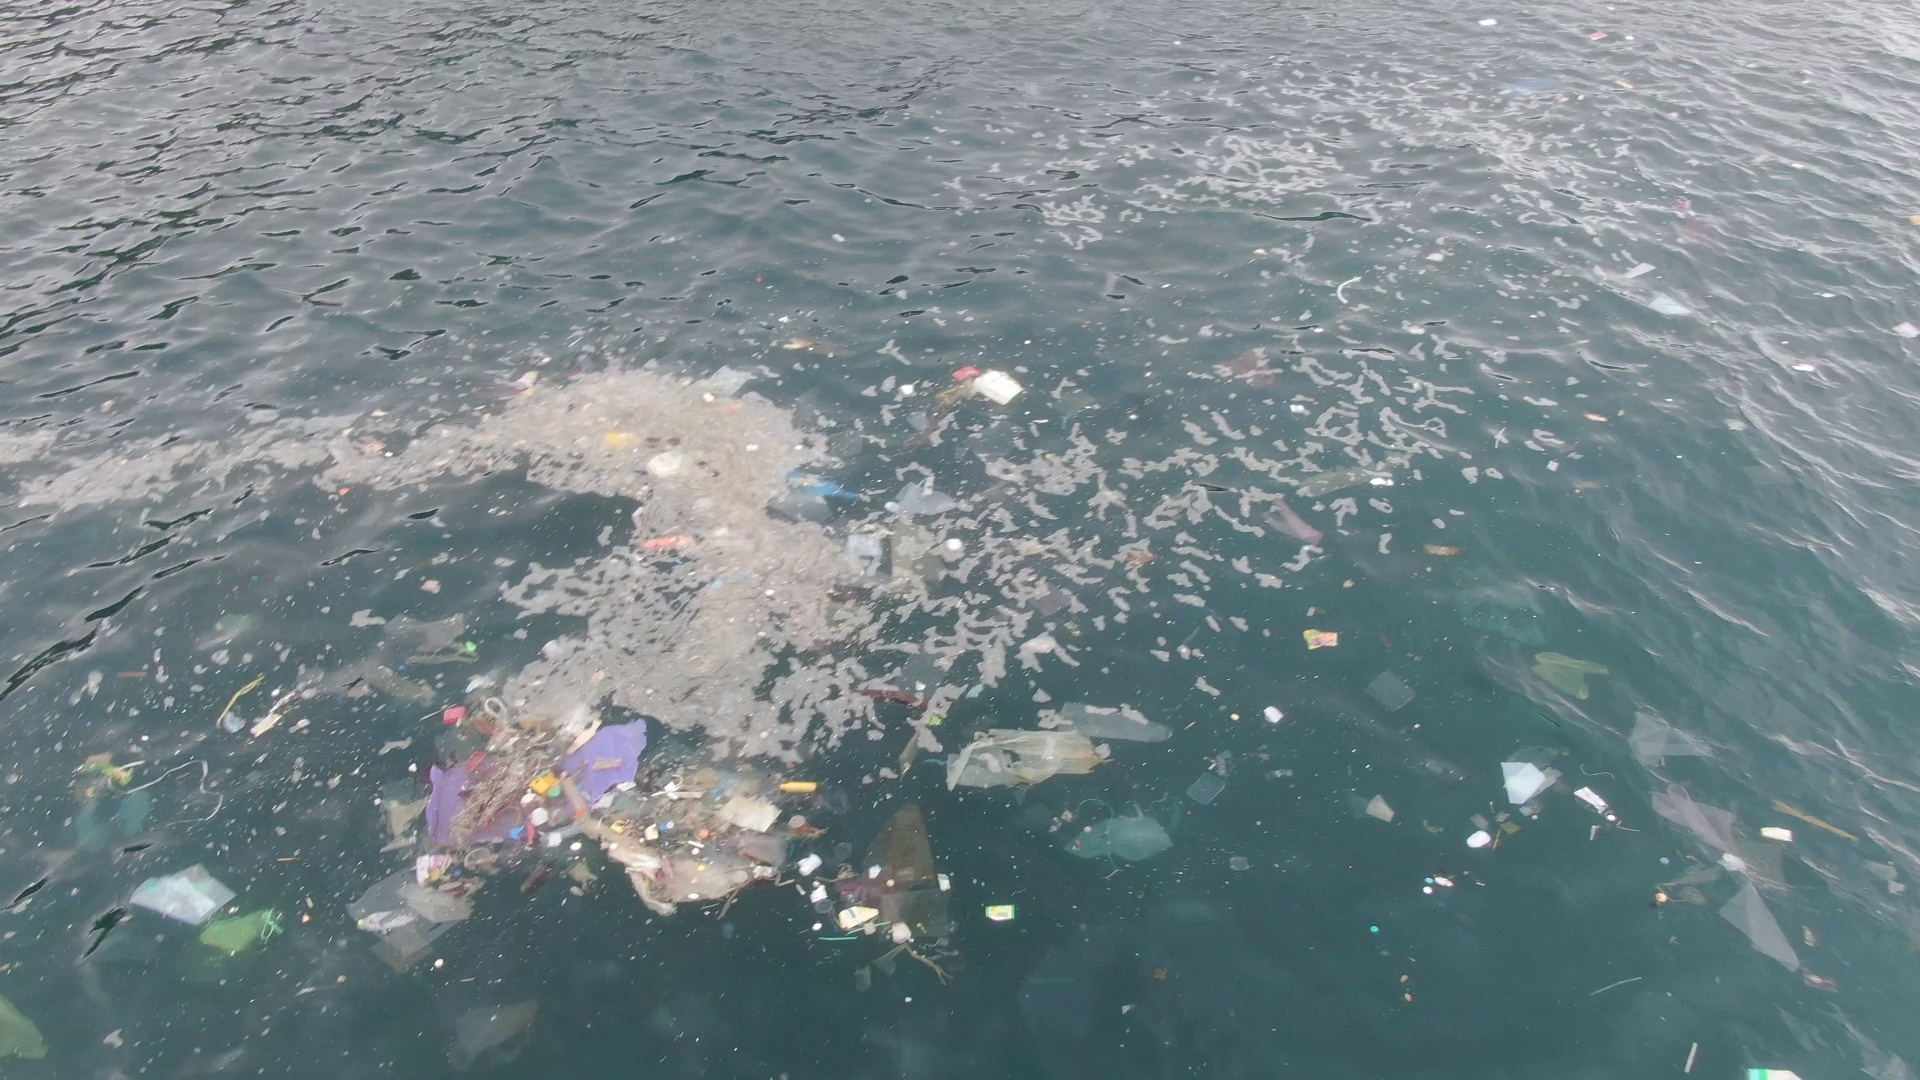garbage: (393, 717, 957, 976), (491, 345, 864, 554), (1627, 723, 1826, 981), (944, 684, 1174, 793), (1464, 752, 1636, 862), (129, 866, 284, 960), (320, 615, 479, 698), (78, 749, 223, 831), (1048, 795, 1178, 865), (218, 676, 318, 738), (1532, 651, 1610, 702), (953, 360, 1025, 410), (1215, 344, 1282, 397), (1425, 866, 1487, 895), (1302, 626, 1337, 651), (1745, 1067, 1803, 1080), (1422, 542, 1461, 560)
